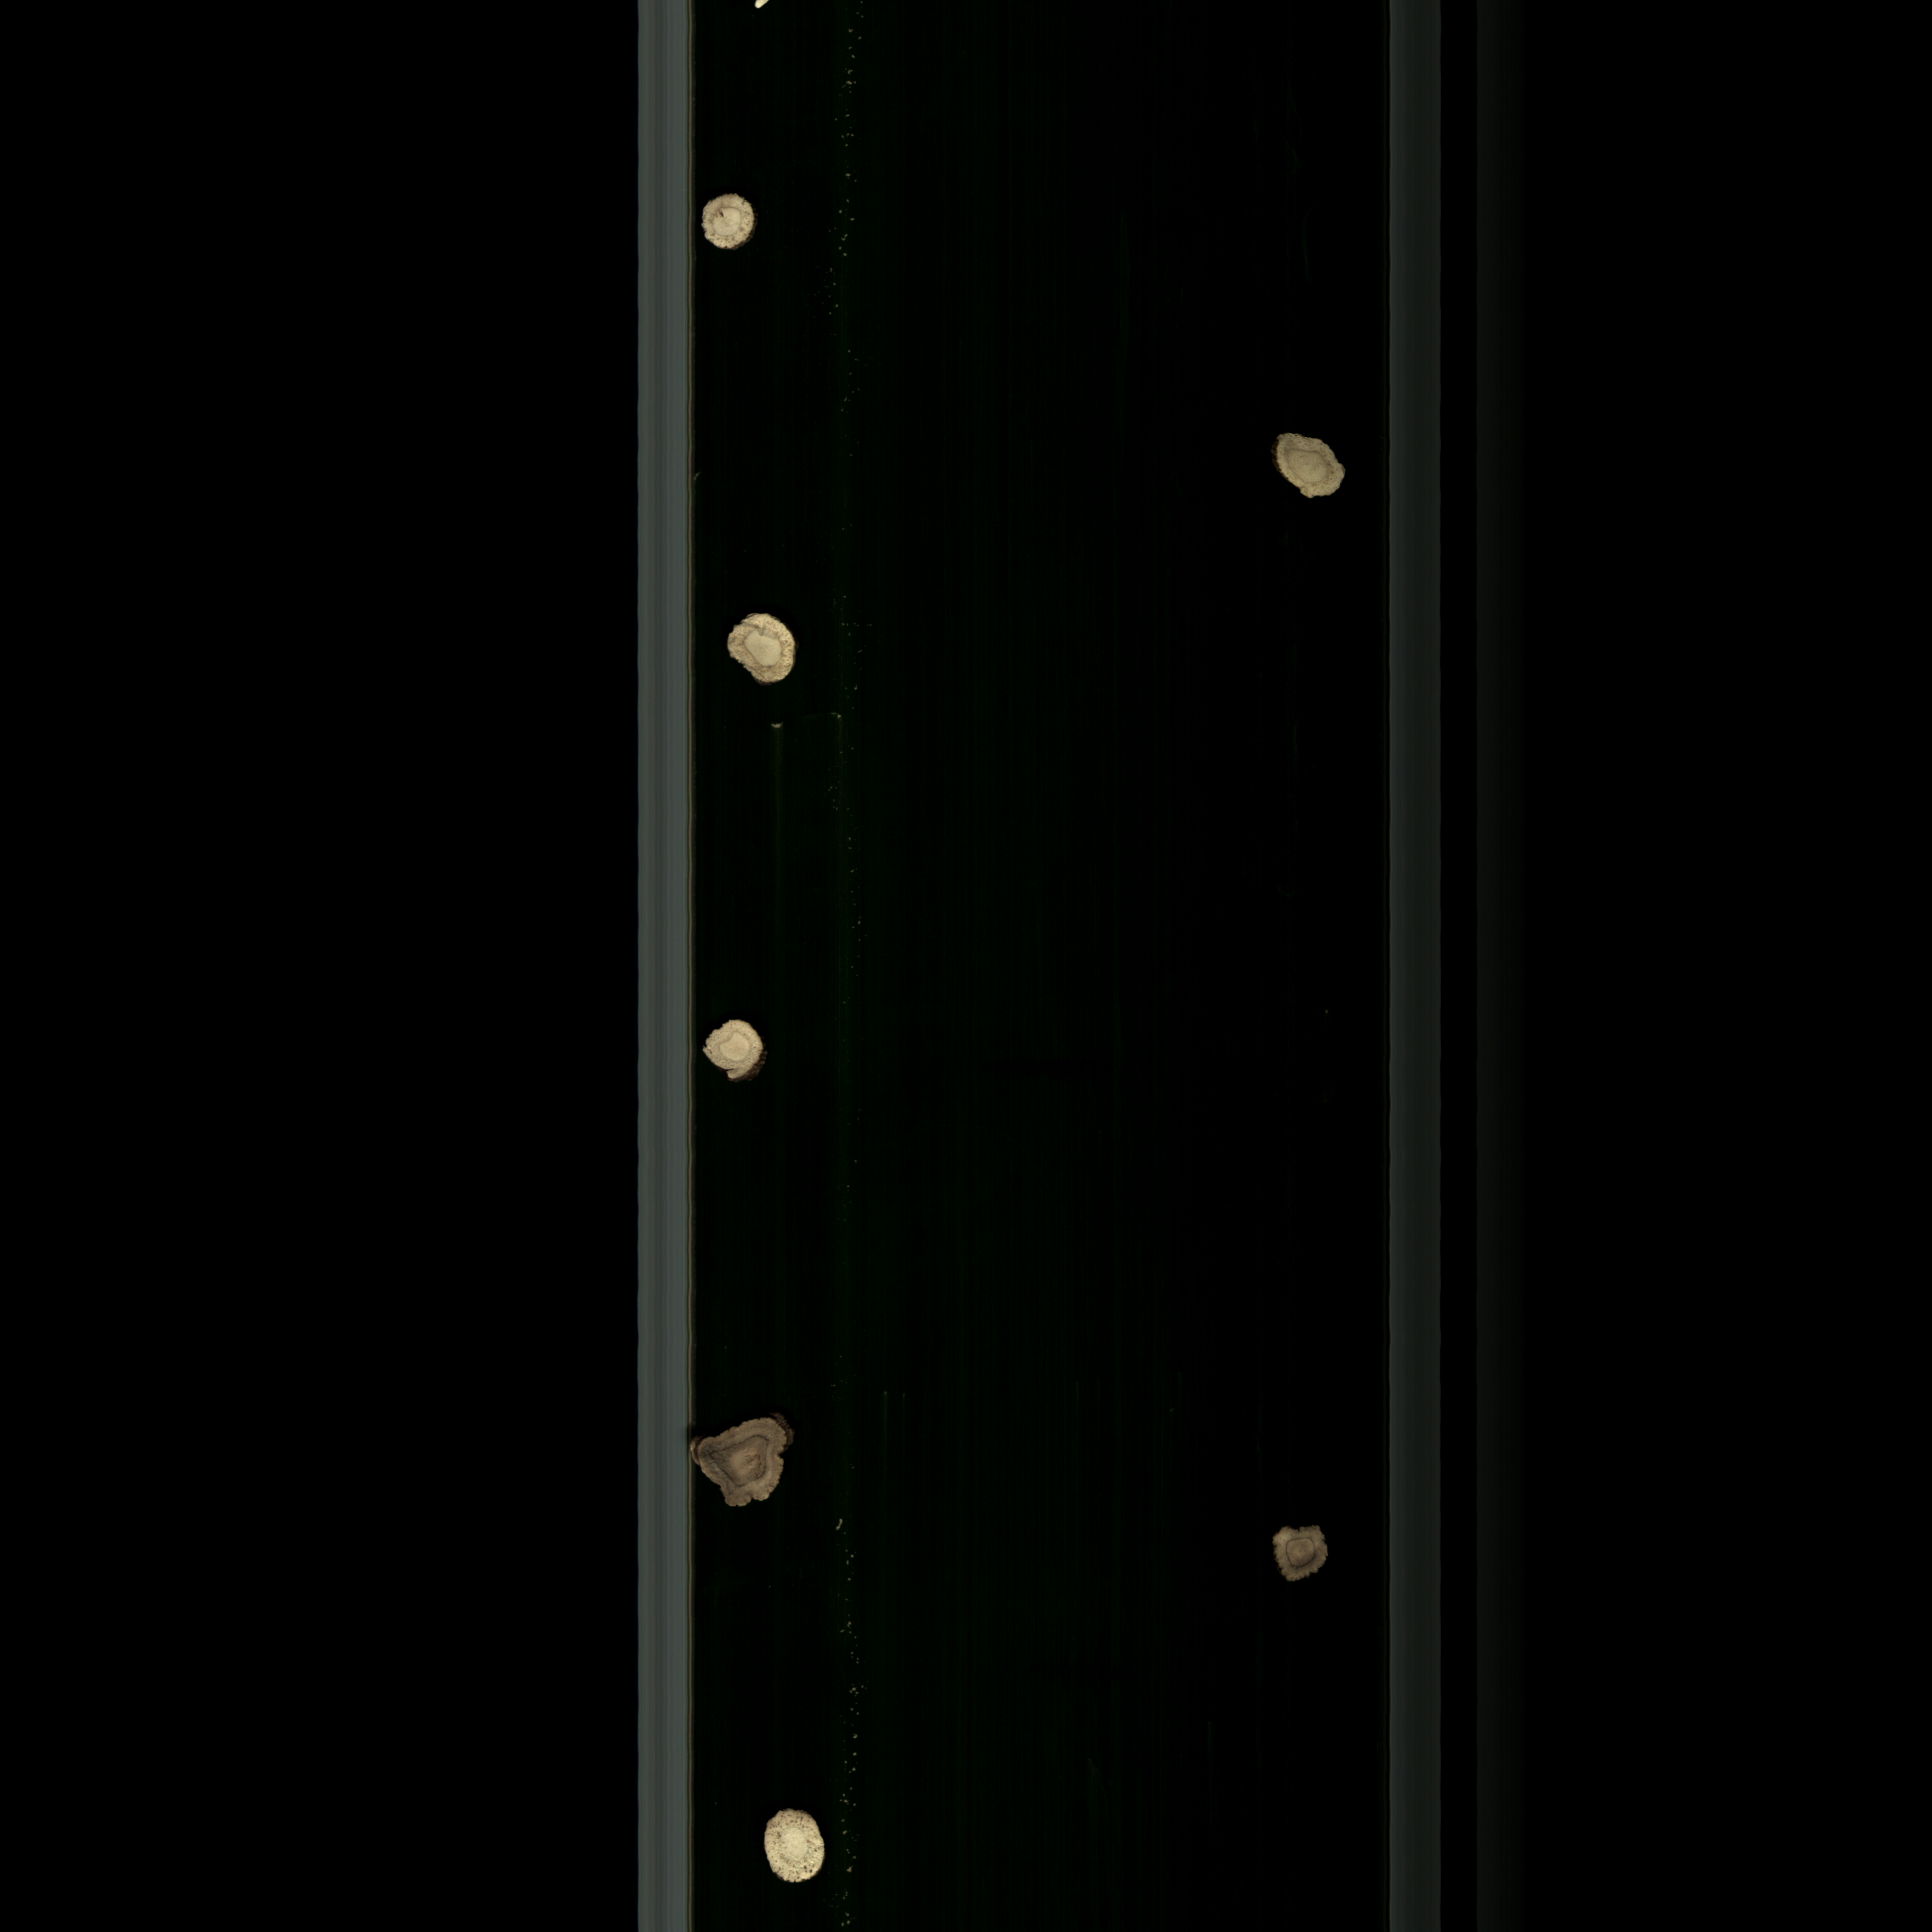distortion: (699, 1007, 778, 1093)
moldy: (683, 1410, 800, 1523), (1267, 421, 1353, 515), (722, 605, 807, 694), (1261, 1520, 1343, 1592), (697, 186, 763, 260)
